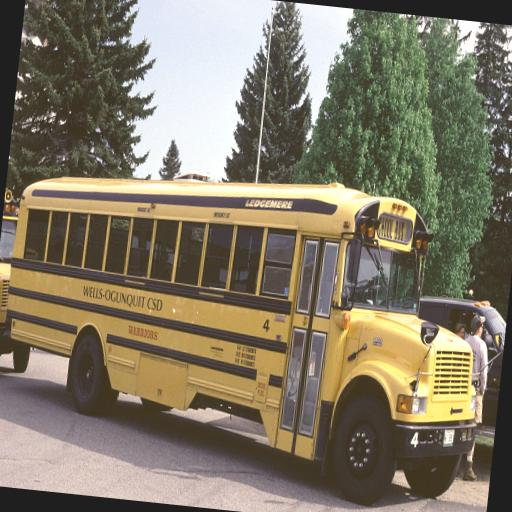bus: (0, 149, 500, 512)
